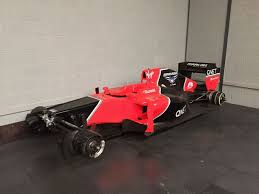f1_car: (21, 59, 234, 168)
